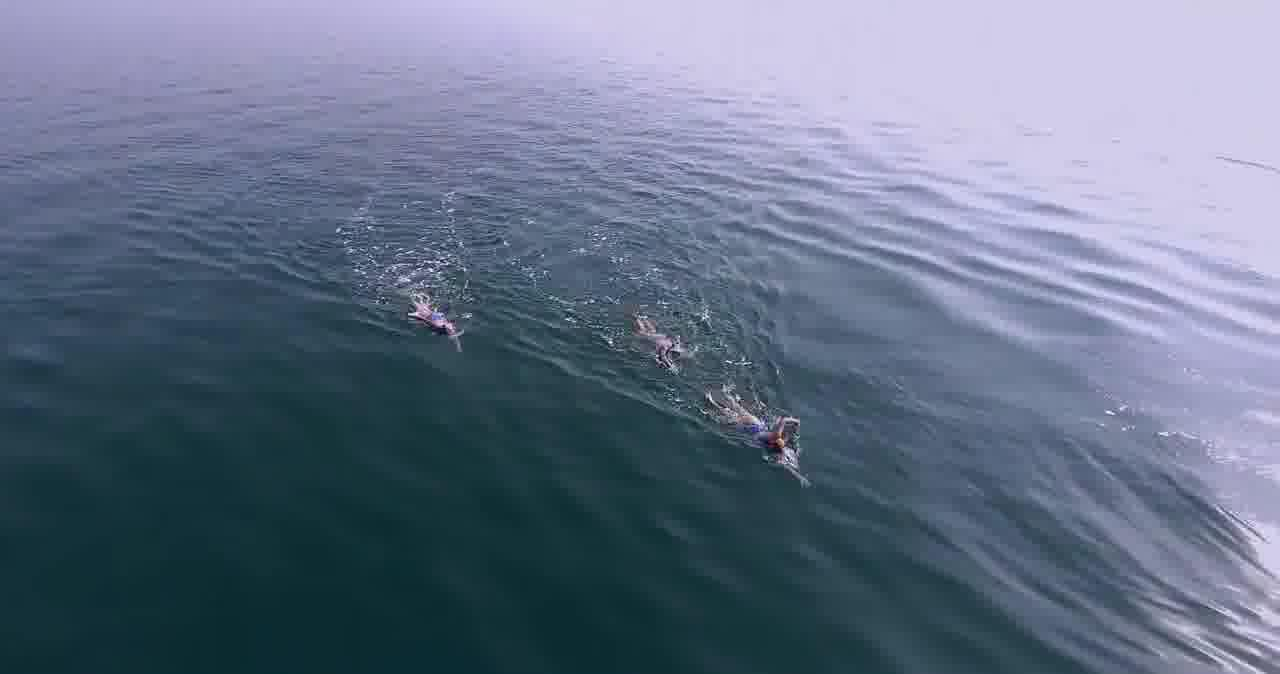swimmer: (748, 418, 833, 476), (640, 325, 695, 367), (416, 312, 466, 344)
